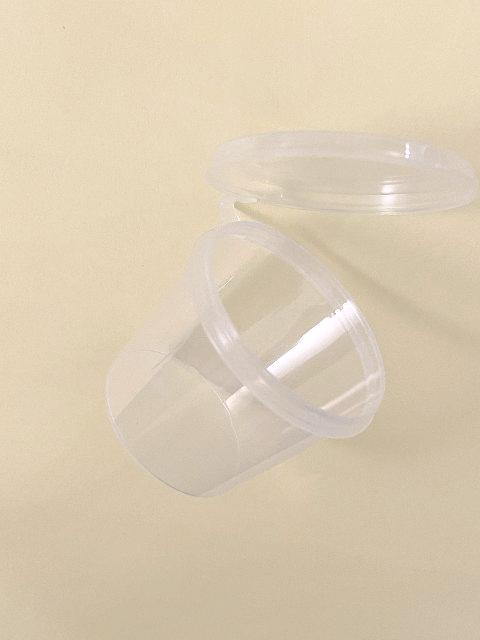plasticcontainer: (102, 128, 480, 500)
